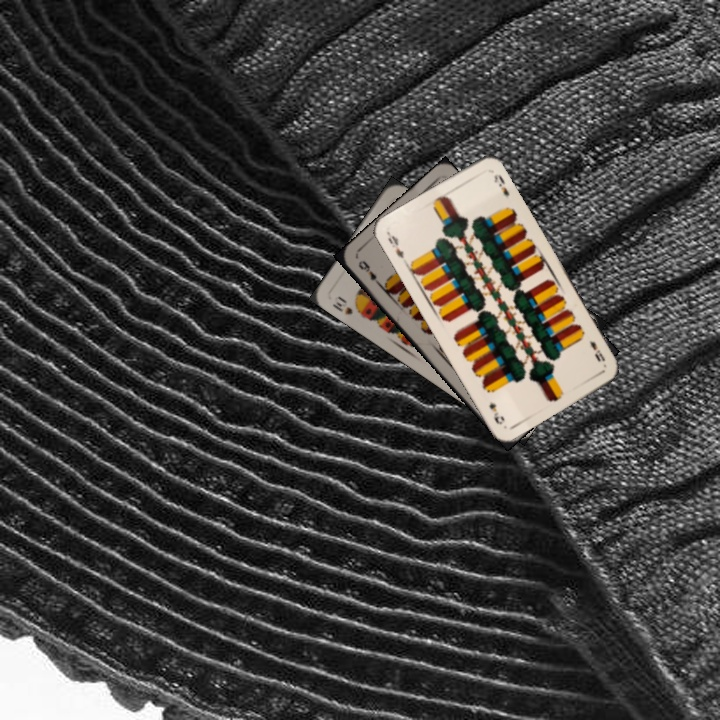E9: (354, 256, 384, 289), (384, 229, 406, 261), (585, 336, 608, 364)
S10: (328, 292, 365, 318)
